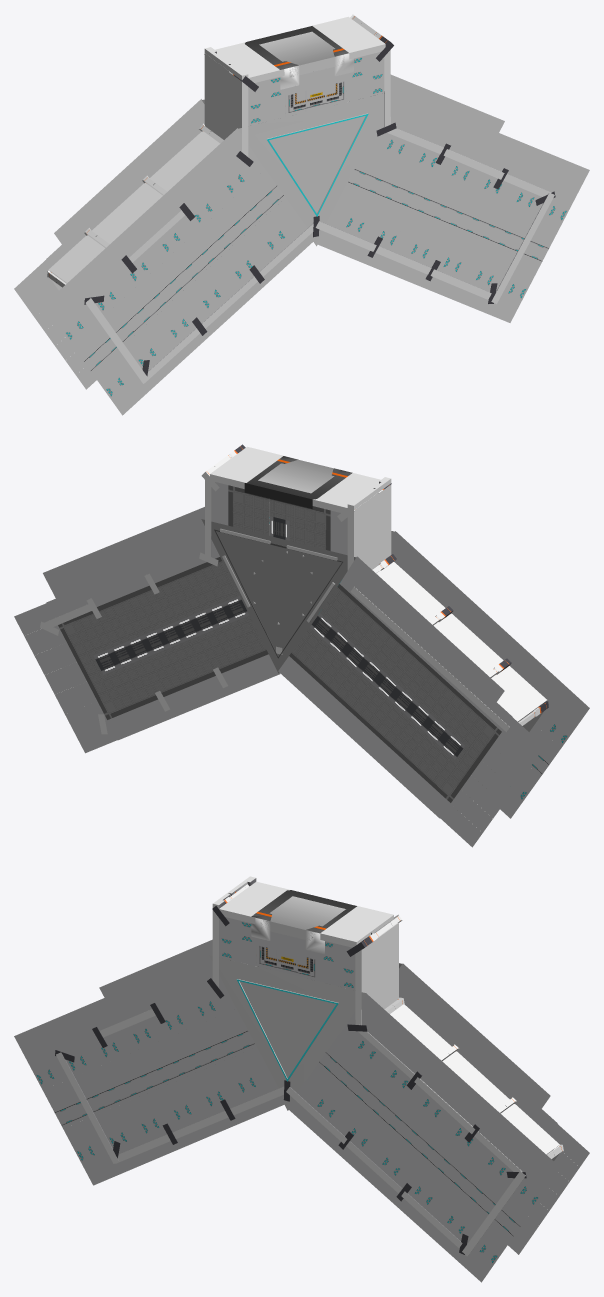
The model's file is UNJOINED_ENV_Room1Layout (fixed normals).fbx.
3 renders of one model, top to bottom at view 1: azimuth 30°, elevation 25°; view 2: azimuth 150°, elevation 25°; view 3: azimuth 330°, elevation 25°, orthographic.
Parts seen in each view (by area): view 1: Plane.039, Plane.160, Cone.002, Plane.161, Plane.137, Final Door.002, TEXTURED_WT_ExposedPanel.012, Plane.136, b.016, Plane.138, TEXTURED_WT_ExposedPanel.010, b.015 (+7 smaller); view 2: Plane.138, Plane.137, Cylinder.007, Plane.160, Plane.136, TEXTURED_WT_ExposedPanel.012, Final Door.002, b.016, b.015, b.017, Plane.039, TEXTURED_WT_ExposedPanel.010 (+2 smaller); view 3: Plane.160, Plane.039, Cone.002, Plane.138, Plane.161, Final Door.002, TEXTURED_WT_ExposedPanel.009, a.021, TEXTURED_WT_ExposedPanel.010, a.019, Plane.137, a.020 (+6 smaller).
Part boxes in pixels (x1,y1,x2,y2): Plane.039: [316, 90, 589, 322]; Plane.160: [43, 128, 315, 415]; Cone.002: [238, 90, 395, 246]; Plane.161: [248, 52, 384, 125]; Plane.137: [54, 99, 204, 251]; Final Door.002: [245, 26, 353, 89]; TEXTURED_WT_ExposedPanel.012: [204, 47, 248, 156]; Plane.136: [14, 244, 96, 389]; b.016: [92, 183, 184, 262]; Plane.138: [390, 74, 504, 132]; TEXTURED_WT_ExposedPanel.010: [312, 16, 385, 59]; b.015: [149, 131, 219, 191]; Plane.138: [53, 518, 280, 733]; Plane.137: [278, 556, 504, 803]; Cylinder.007: [201, 519, 355, 673]; Plane.160: [391, 531, 589, 818]; Plane.136: [424, 702, 544, 847]; TEXTURED_WT_ExposedPanel.012: [347, 477, 391, 570]; Final Door.002: [244, 456, 352, 508]; b.016: [408, 613, 503, 695]; b.015: [350, 562, 445, 643]; b.017: [466, 666, 546, 731]; Plane.039: [43, 507, 204, 598]; TEXTURED_WT_ExposedPanel.010: [210, 446, 283, 488]; Plane.160: [14, 954, 286, 1185]; Plane.039: [287, 993, 561, 1282]; Cone.002: [209, 955, 366, 1110]; Plane.138: [399, 963, 550, 1120]; Plane.161: [219, 917, 355, 990]; Final Door.002: [251, 890, 356, 954]; TEXTURED_WT_ExposedPanel.009: [355, 922, 398, 1025]; a.021: [414, 1051, 509, 1133]; TEXTURED_WT_ExposedPanel.010: [320, 906, 393, 947]; a.019: [358, 1004, 451, 1078]; Plane.137: [99, 939, 212, 997]; a.020: [474, 1104, 559, 1171].
Bounding box in the file's own units: 12817 × 7013 × 1559.
20 materials, 17 textured.
